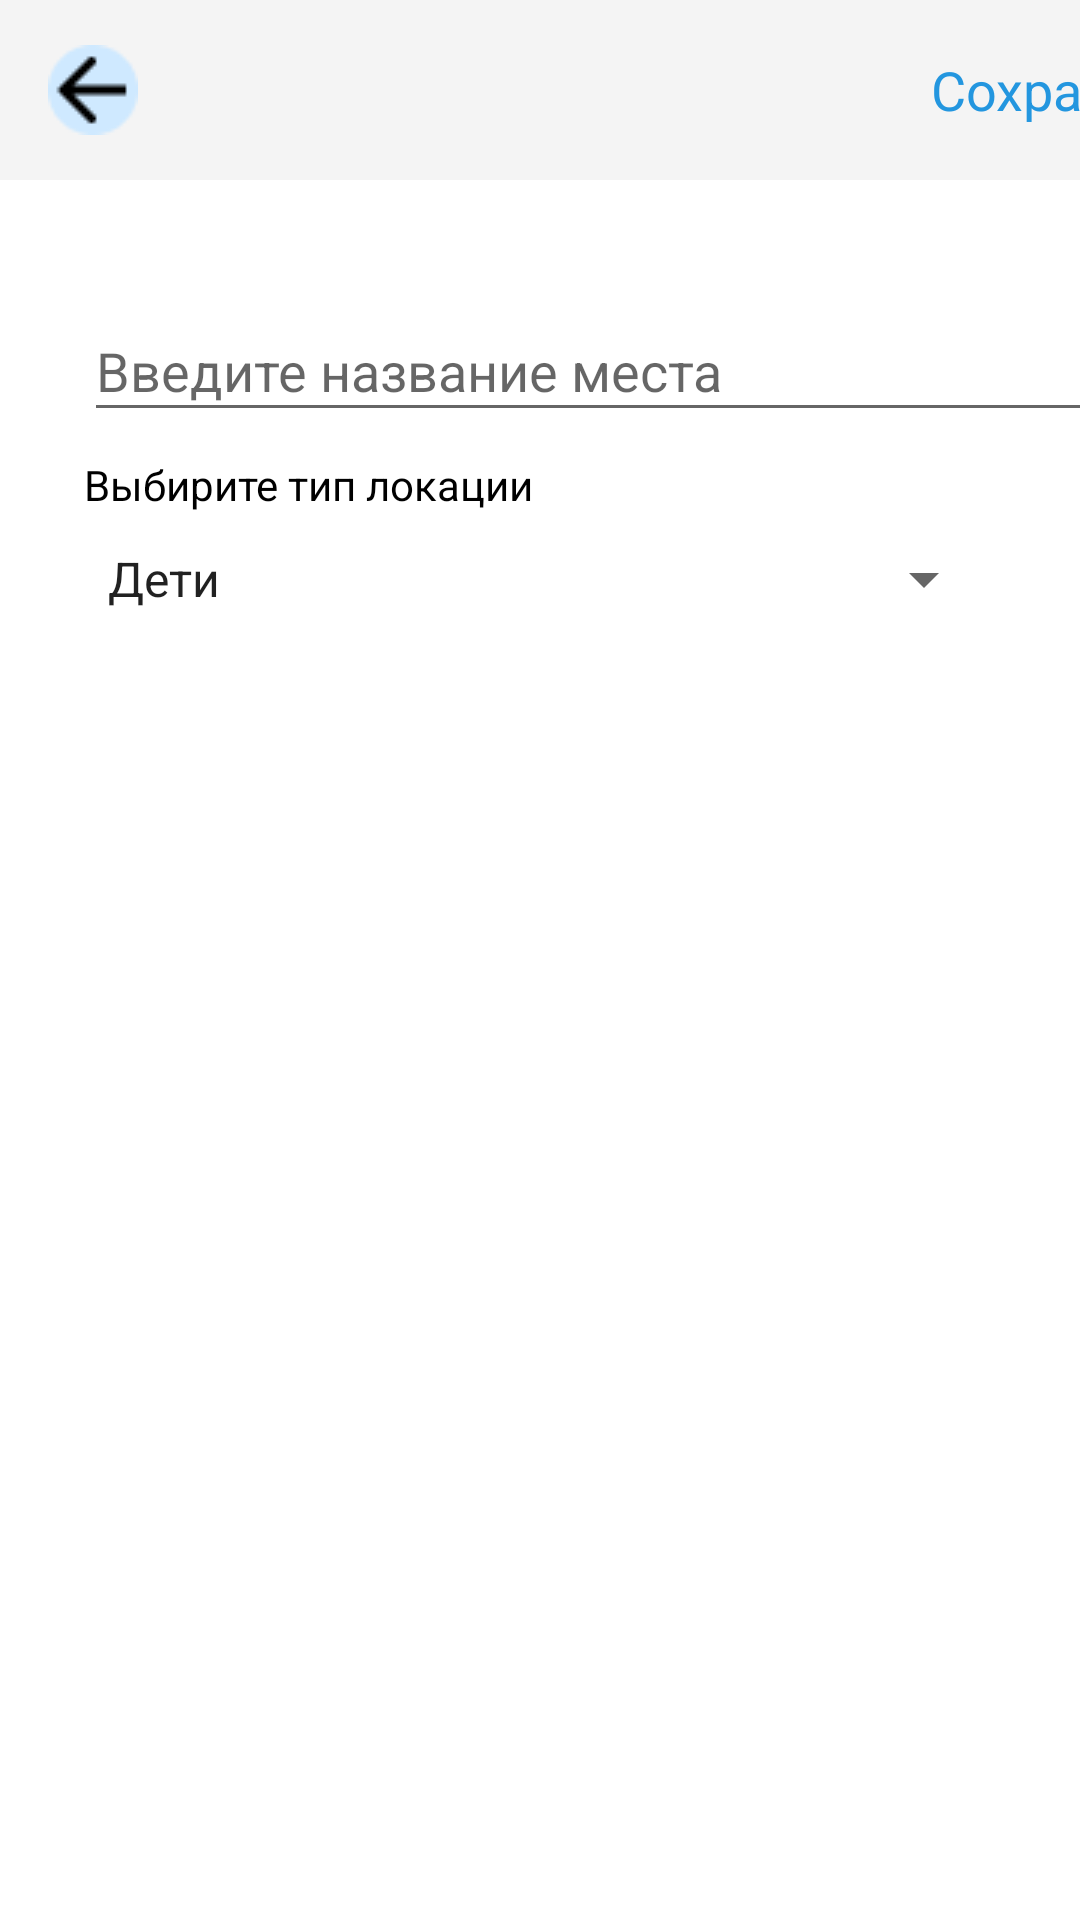

Named icons in this screenshot (1080 x 1920) and their centers, (x=x, y=y):
buttonback: (x=93, y=90)
